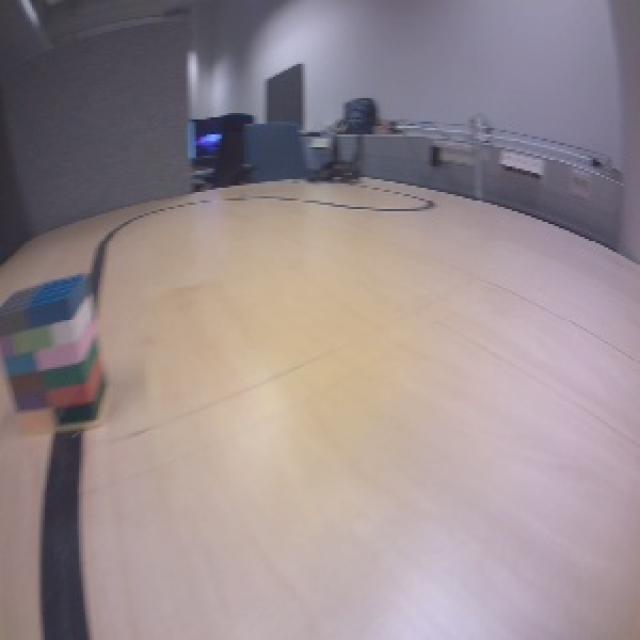obstacle: (1, 270, 116, 440)
